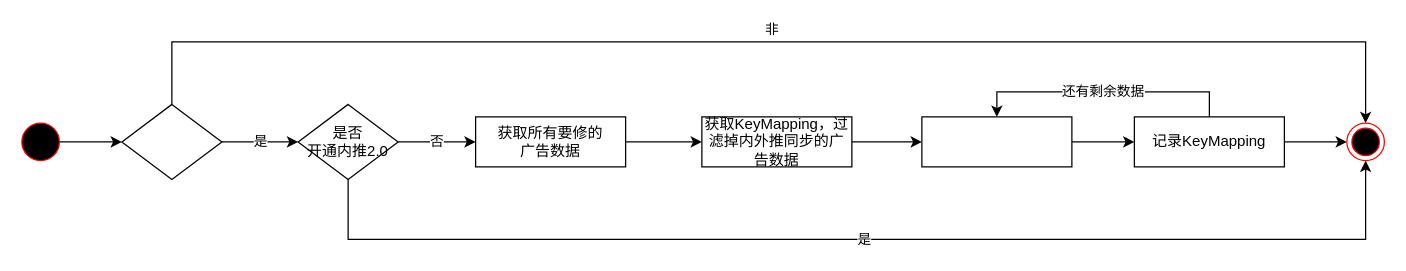
The diagram is 1406 pixels wide and 271 high, and some of its shapes have lost their labels. The shapes that lost their labels are listed below. From the top down, each one's centre as x and y in pixels, then its label:
pixel 171 141: 是否 Light租户
pixel 996 141: 逐条调接口写入
